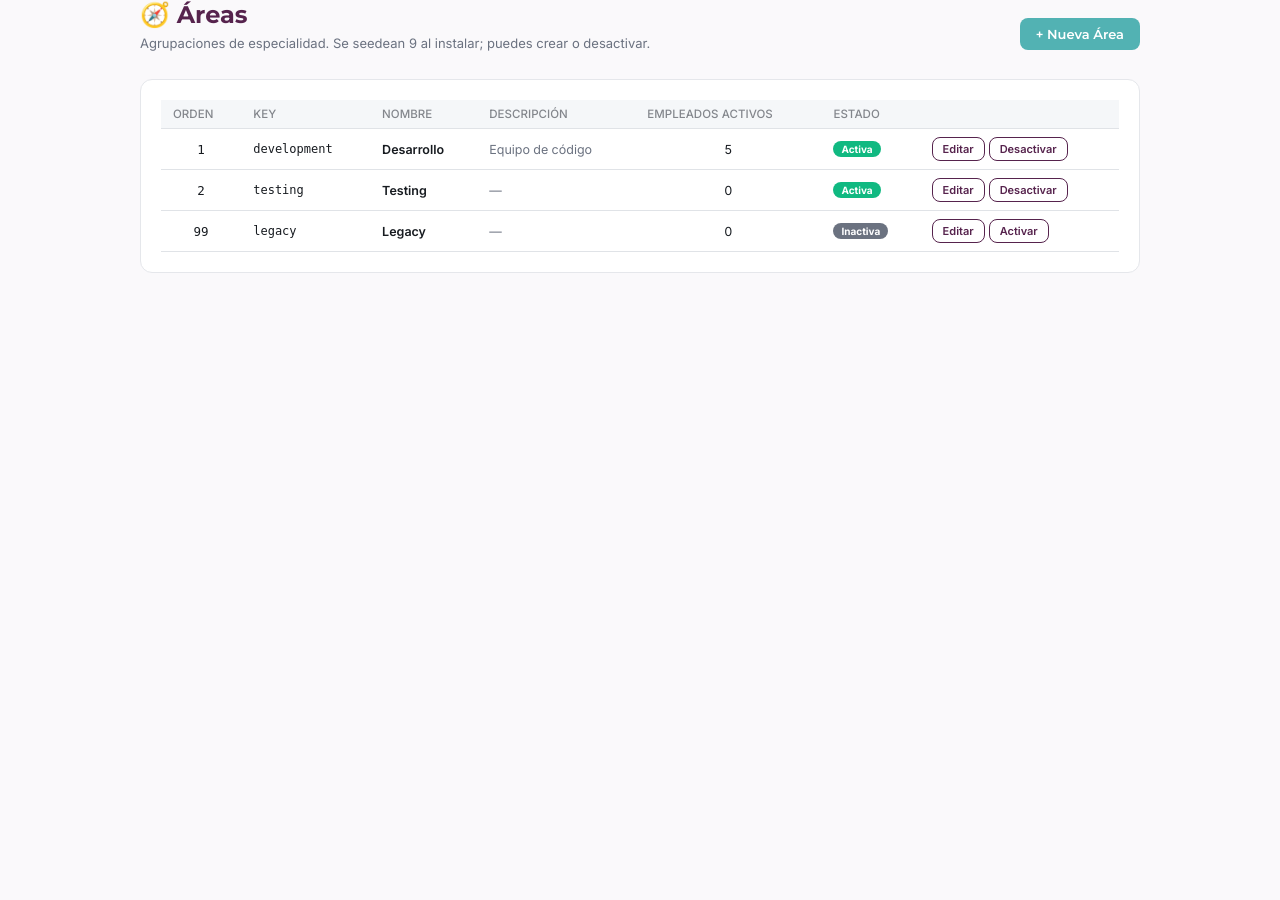
Test: Areas module › shows validation error when name is missing
This screenshot has width=1280, height=900.
Expected: the text "Desarrollo" is shown, [370, 128, 477, 170]
Click the button "+ Nueva Área". click: point(1080, 34)
box: [1020, 18, 1140, 50]
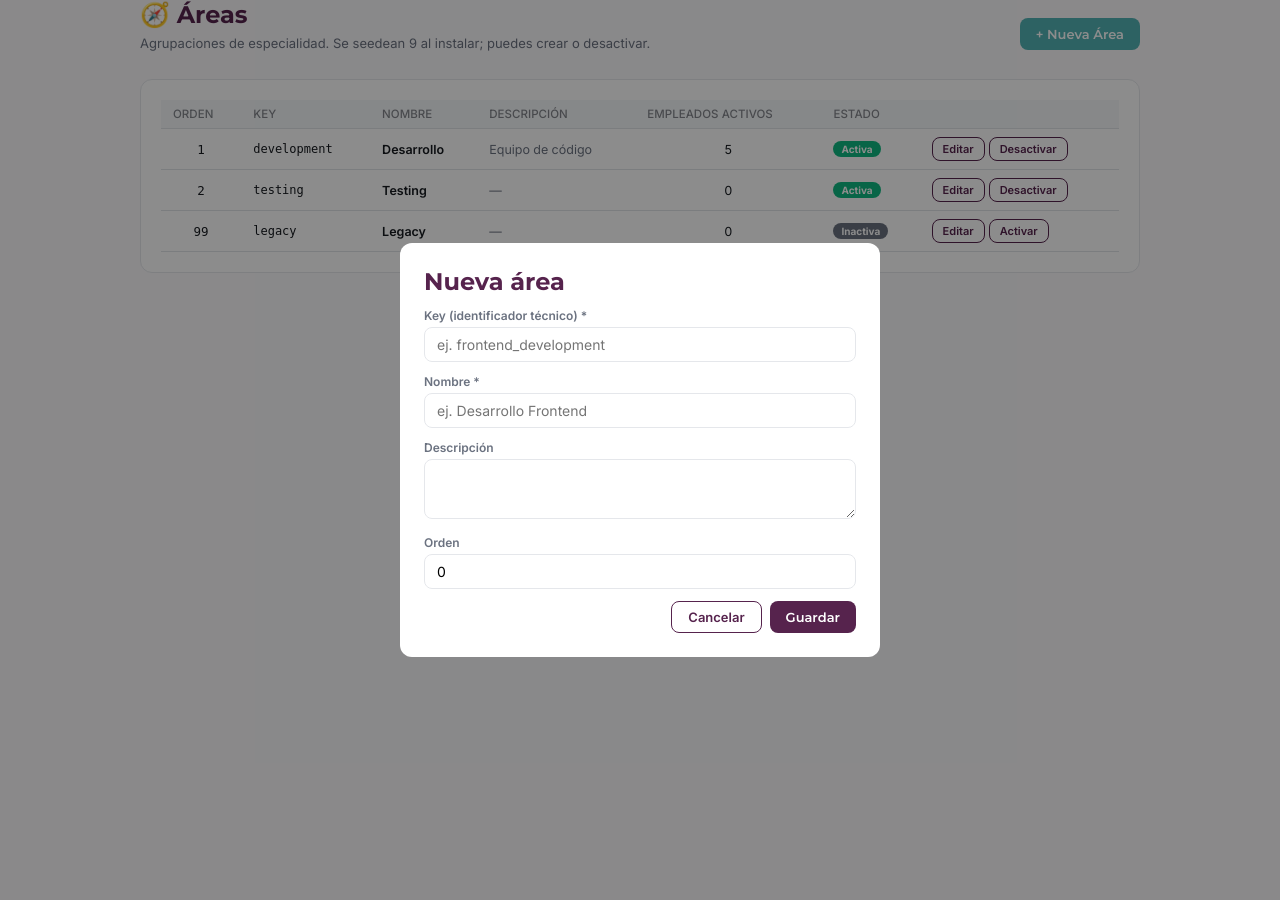
Type "x" into the field named "Key". click: point(640, 344)
box: [424, 327, 856, 362]
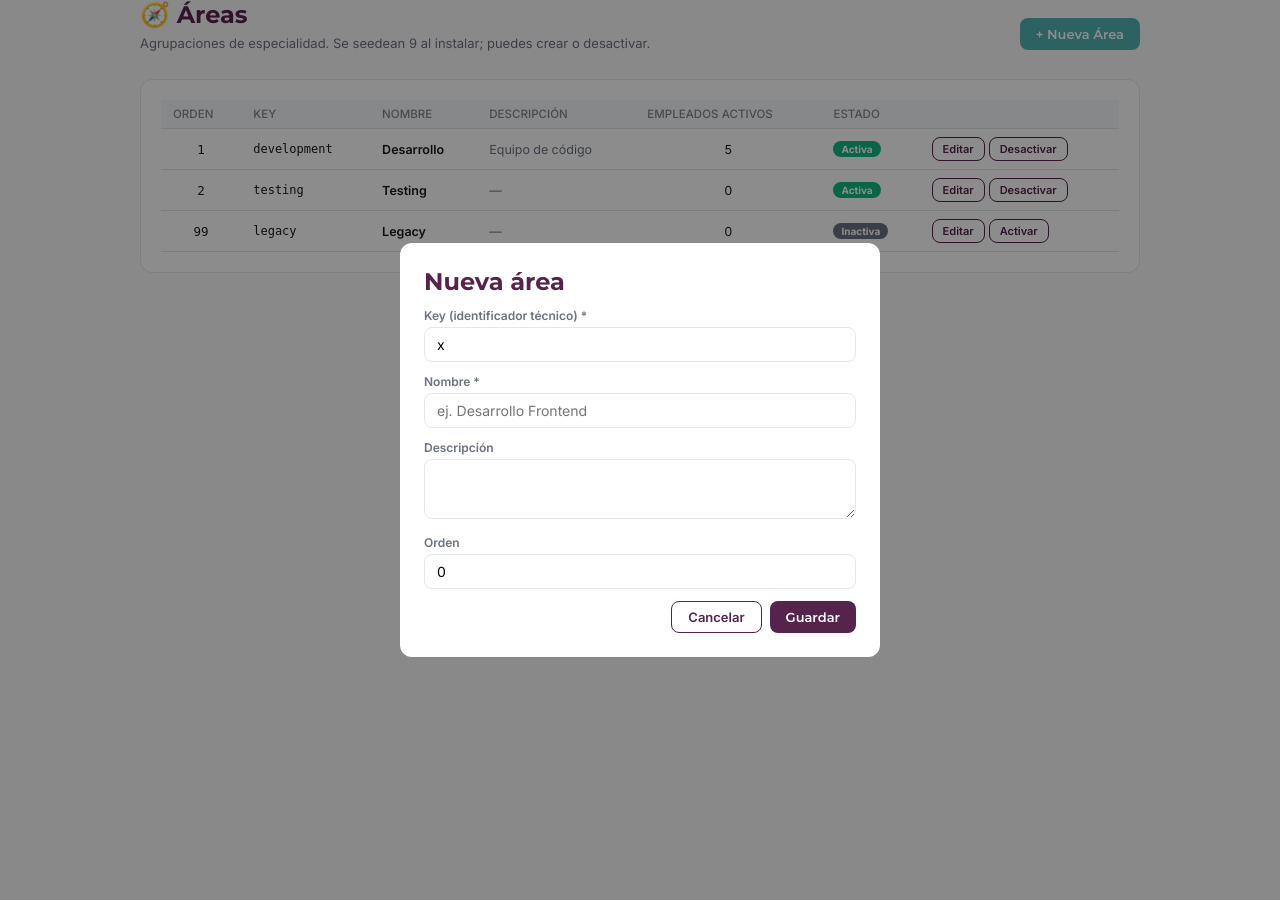
Note:  no name
Submit the form named "Guardar", box [424, 267, 856, 633]
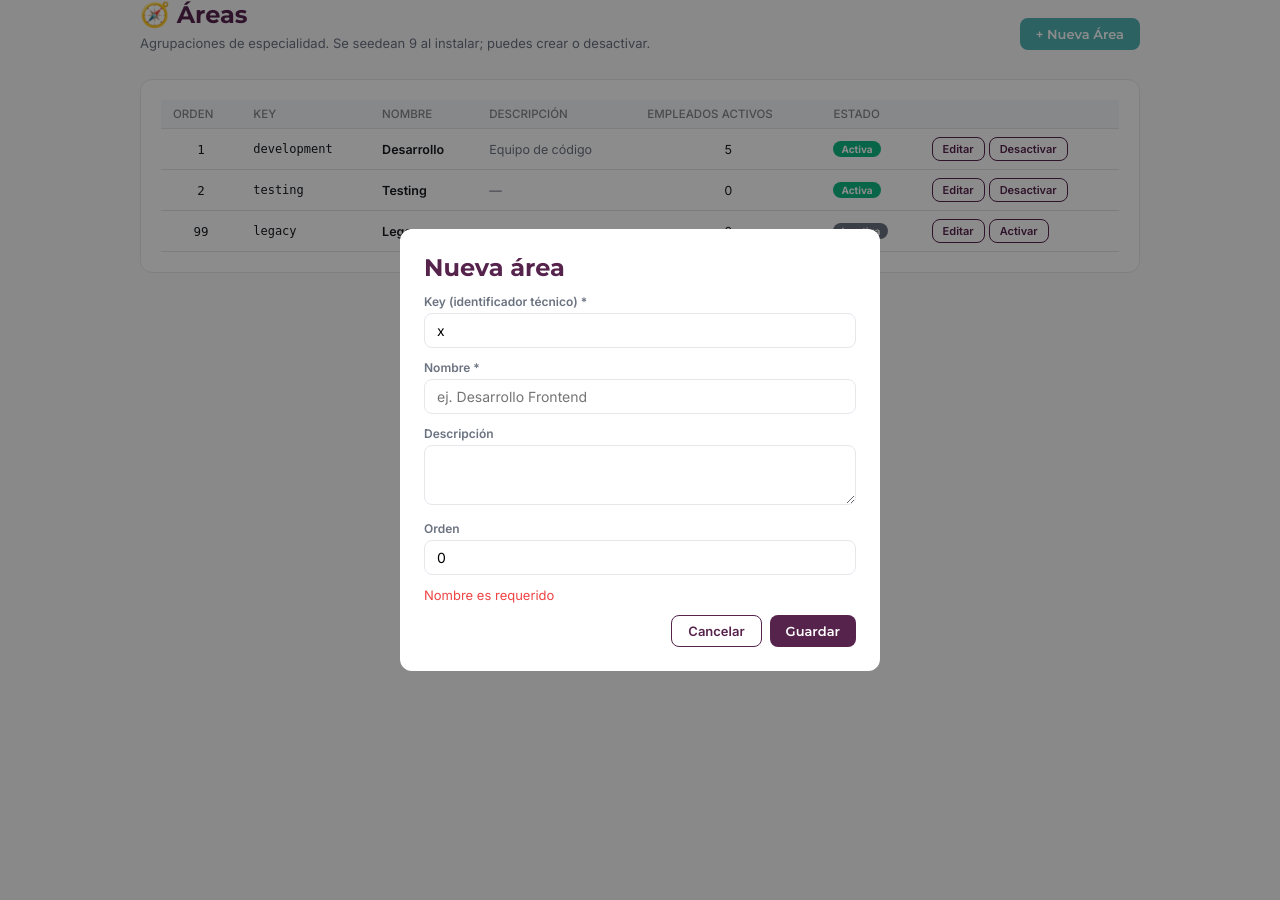
Result: the text "Nombre es requerido" is shown at [424, 587, 554, 603]
